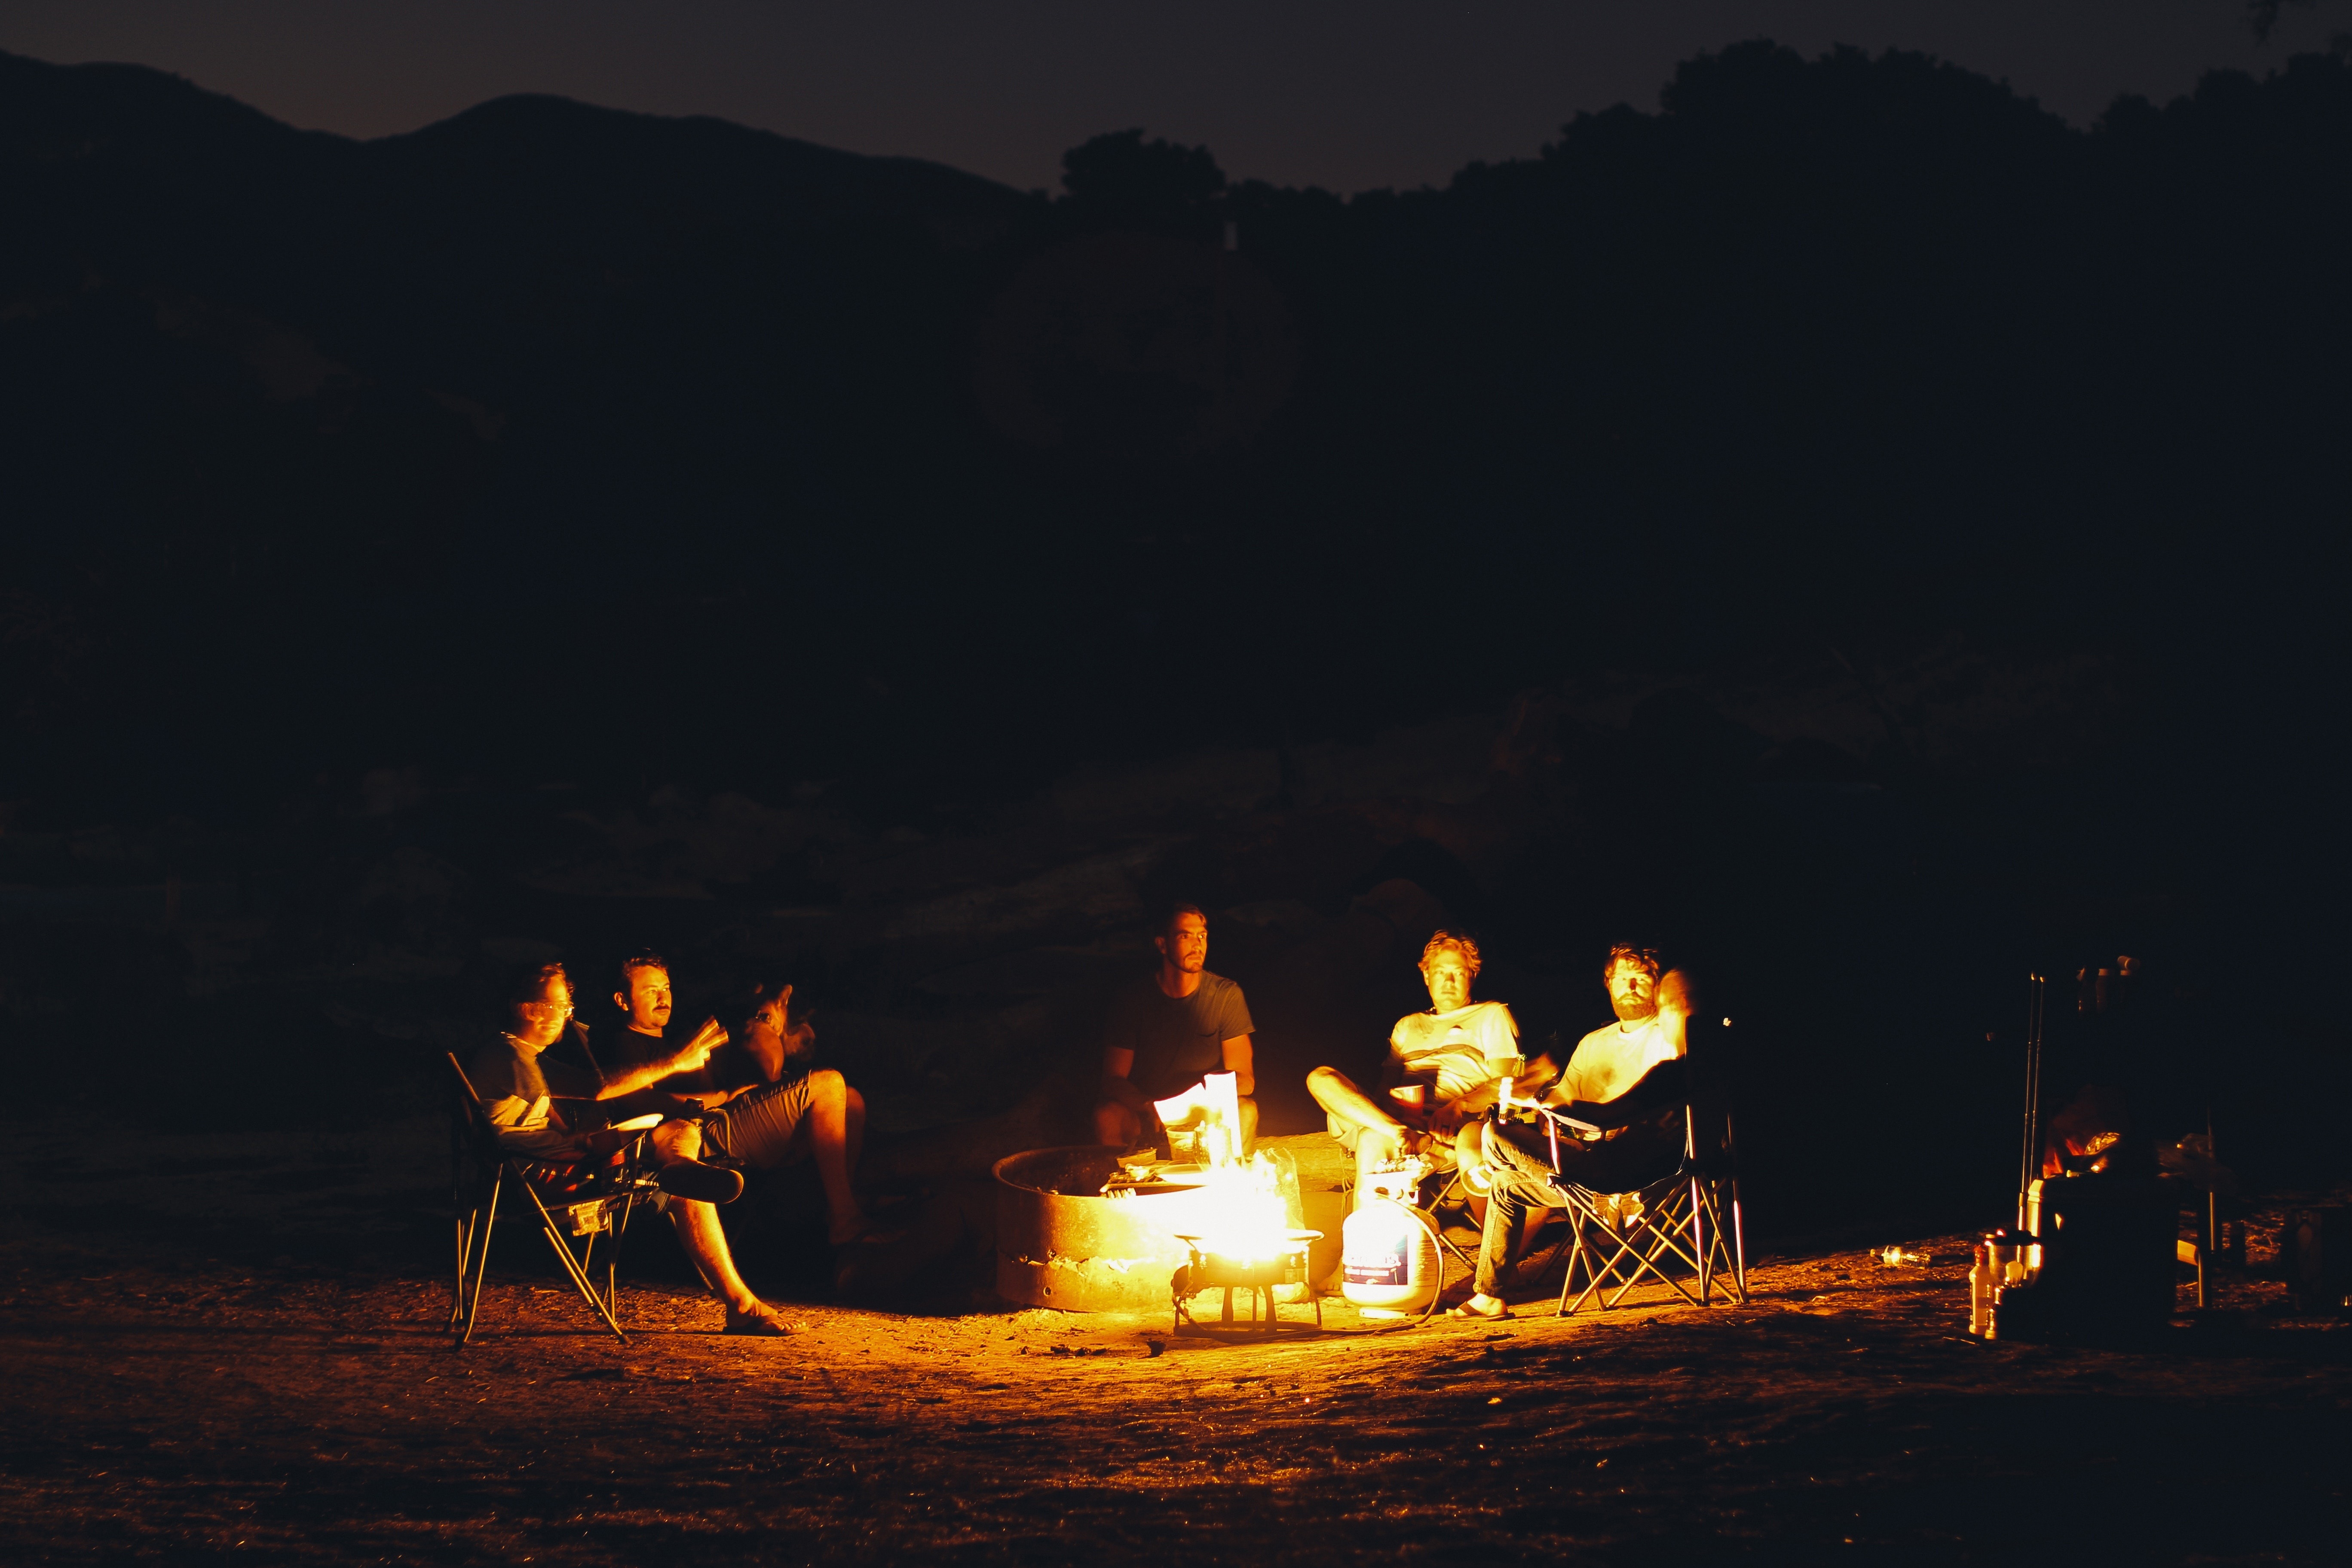fire: (1078, 912, 1696, 1288), (458, 936, 847, 1283)
